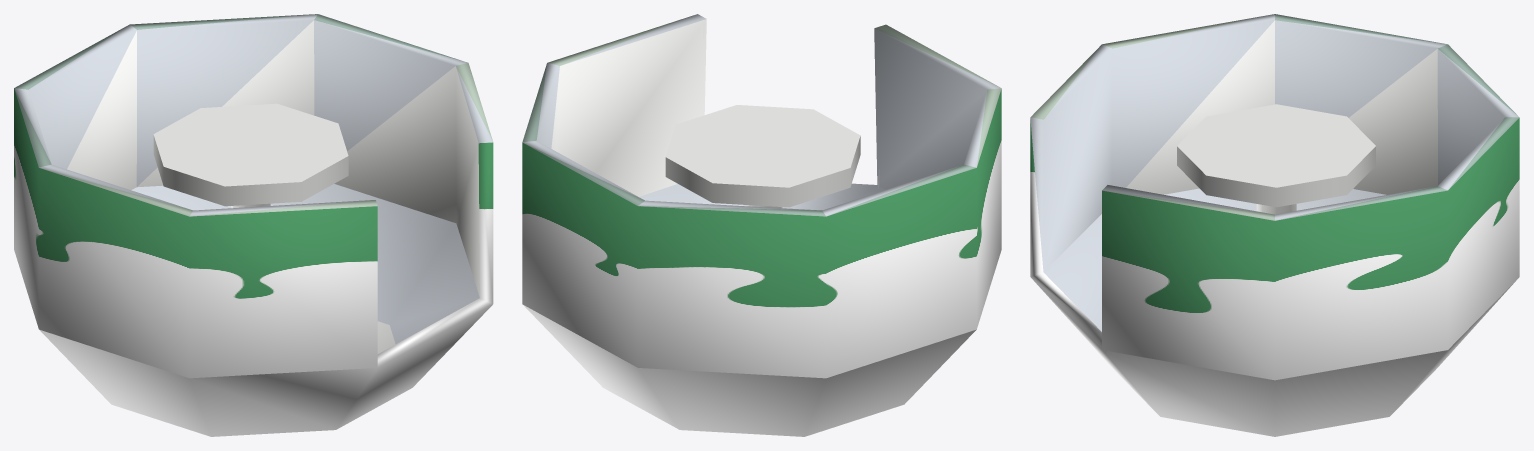
The model's file is CupTex2.glb.
3 views of the same model, side by side, from view 1: azimuth 30°, elevation 25°; view 2: azimuth 150°, elevation 25°; view 3: azimuth 270°, elevation 25° (orthographic).
Parts seen in each view (by area): view 1: CupTex2; view 2: CupTex2; view 3: CupTex2.
Part boxes in pixels (box(x1,y1,x2,y2)): CupTex2: box(14, 14, 493, 436); CupTex2: box(522, 14, 1001, 436); CupTex2: box(1030, 14, 1519, 436).
Bounding box in the file's own units: 2 × 1.15 × 2.
1 material, 1 textured.
